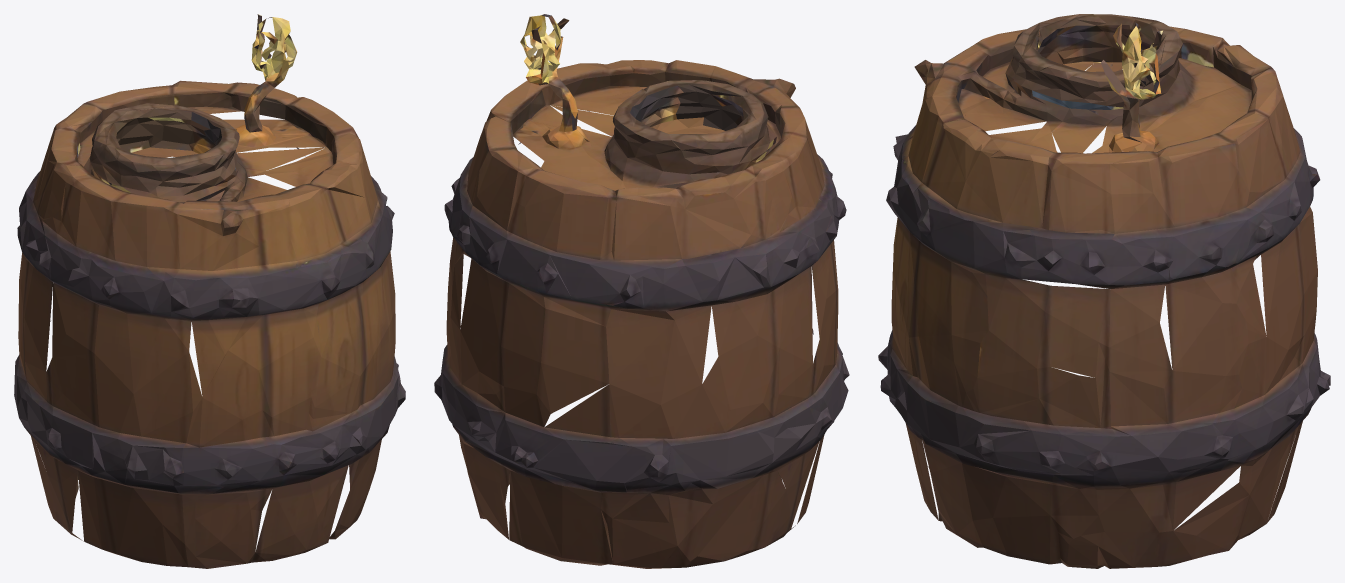
Rendered from powder_keg.glb.
3 renders of one model, left to right at view 1: azimuth 30°, elevation 25°; view 2: azimuth 150°, elevation 25°; view 3: azimuth 270°, elevation 25°, orthographic. The views are drawn at different scales.
Parts seen in each view (by area): view 1: geometry_0; view 2: geometry_0; view 3: geometry_0.
Boxes of the visible parts, <box> form: geometry_0: <box>14,14,405,568</box>; geometry_0: <box>434,14,849,568</box>; geometry_0: <box>878,14,1330,568</box>.
Size of the model in its own units: 0.548 by 0.6992 by 0.5571.
1 material, 1 textured.
